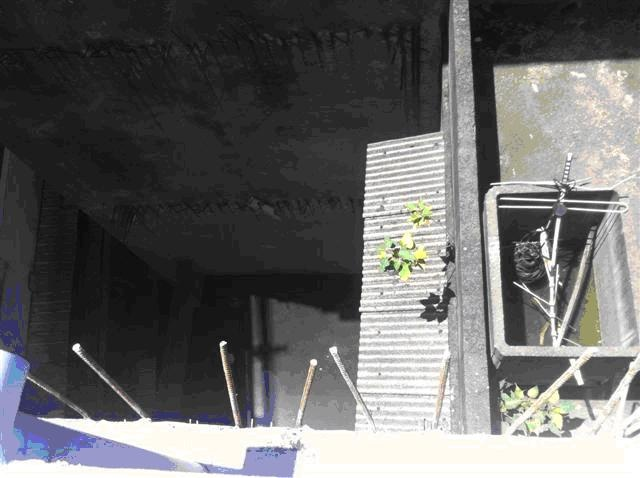box: (486, 179, 633, 390)
